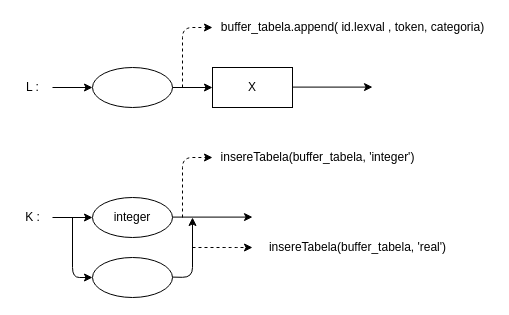
Some shapes in this 509 by 315 pixel diagram are drawn without their labels. Here are the shapes that lost their labels. From the top down, the centre of each, then its label:
At pixel 132 87: "id".
At pixel 132 277: "real".
